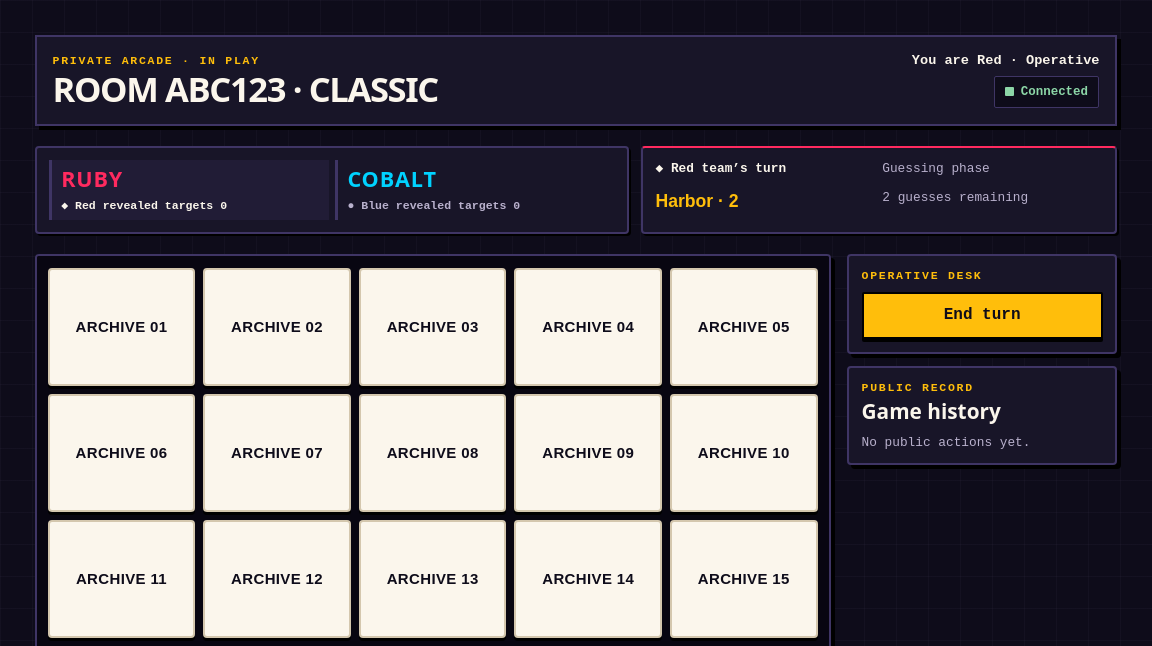
Test: GameView operative and moderation interactions › dismisses end-turn intent when authoritative clue phase changes
The width and height of the screenshot is (1152, 646).
Click the button "End turn". click: (982, 315)
box: [862, 292, 1103, 339]
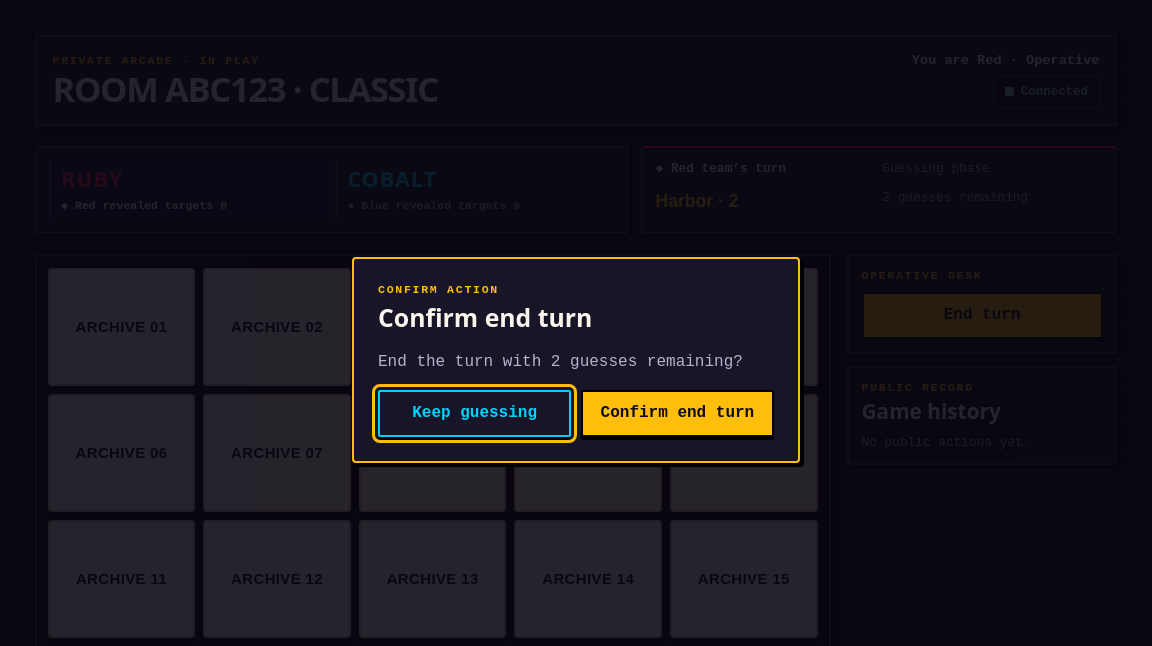
Expected: the dialog is shown, [352, 257, 800, 463]
